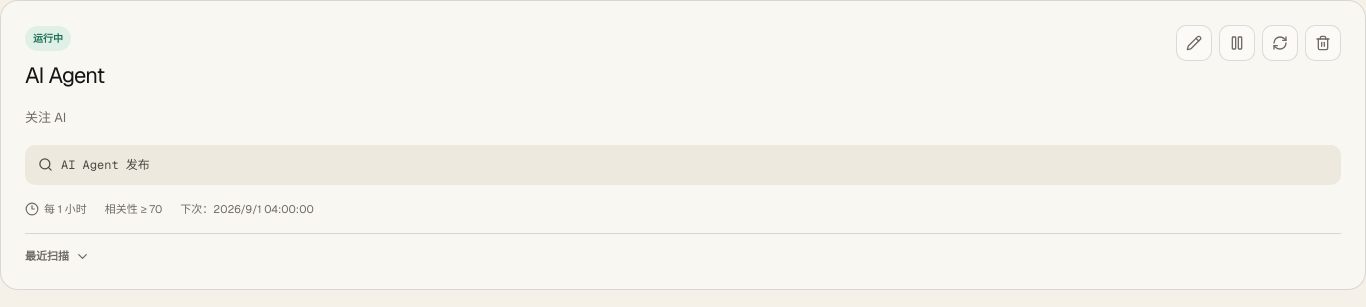
Scenario: RadarList › lists owned radars and pauses an active radar
Expected: the heading "AI Agent" is shown, [25,59,104,92]
Click the button named "暂停雷达" at (1237, 43), box [1219,25,1255,61]
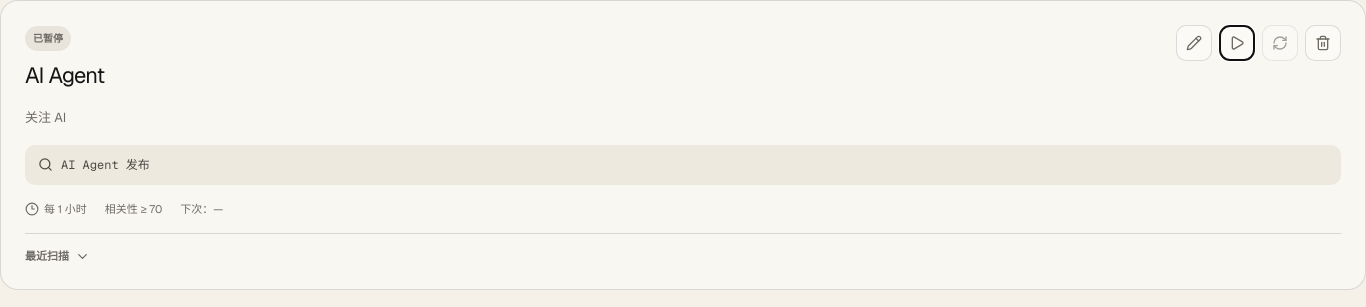
Now the text "已暂停" is shown, box [25,26,71,51]
